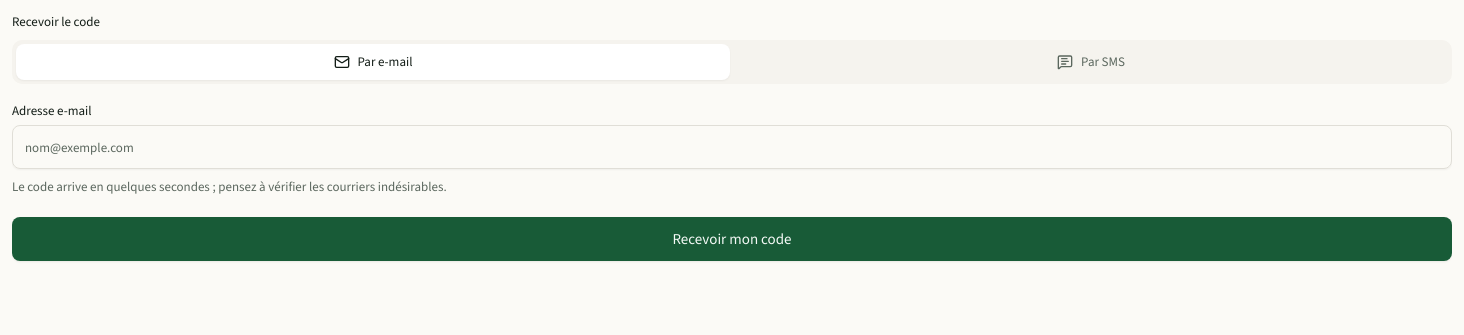
it: OtpLoginFlow › signale un envoi indisponible (503) sans quitter l'étape
Type "pelerin@exemple.test" into the field labelled "Adresse e-mail".
click(732, 147); type("pelerin@exemple.test")  # box x1=12 y1=125 x2=1452 y2=169
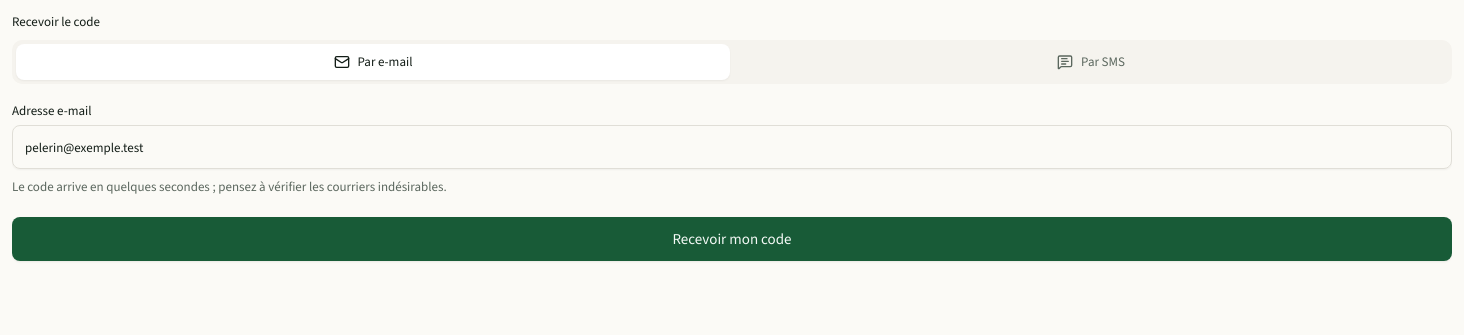
Click the button "Recevoir mon code".
click(732, 239)  # box x1=12 y1=217 x2=1452 y2=261
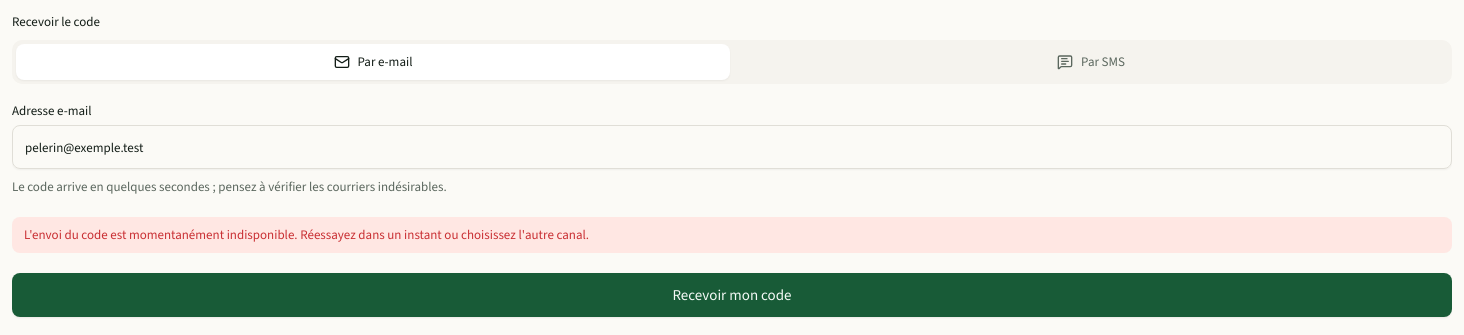
Check: the text "momentanément indisponible" is shown, box x1=24 y1=226 x2=589 y2=243
